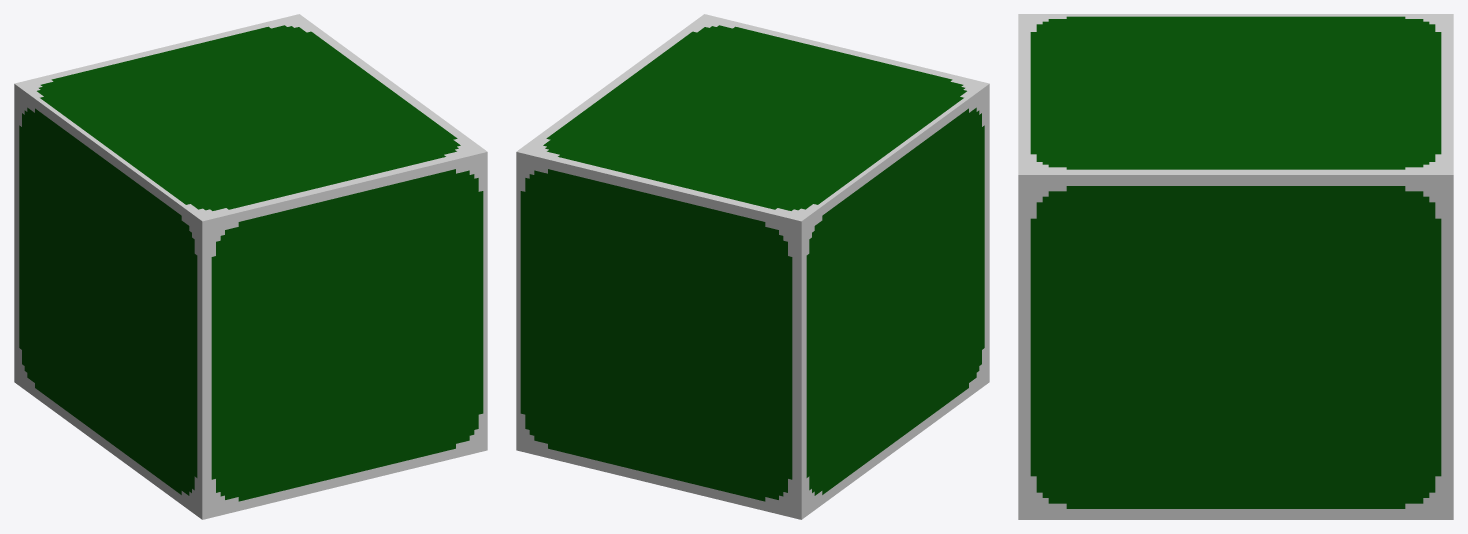
Rendered from house_simple_green_cube.obj.
3 views of the same model, side by side, from view 1: azimuth 30°, elevation 25°; view 2: azimuth 150°, elevation 25°; view 3: azimuth 270°, elevation 25° (orthographic). The views are drawn at different scales.
Size of the model in its own units: 6.3 by 6.3 by 7.2.
1 material, 1 textured.
